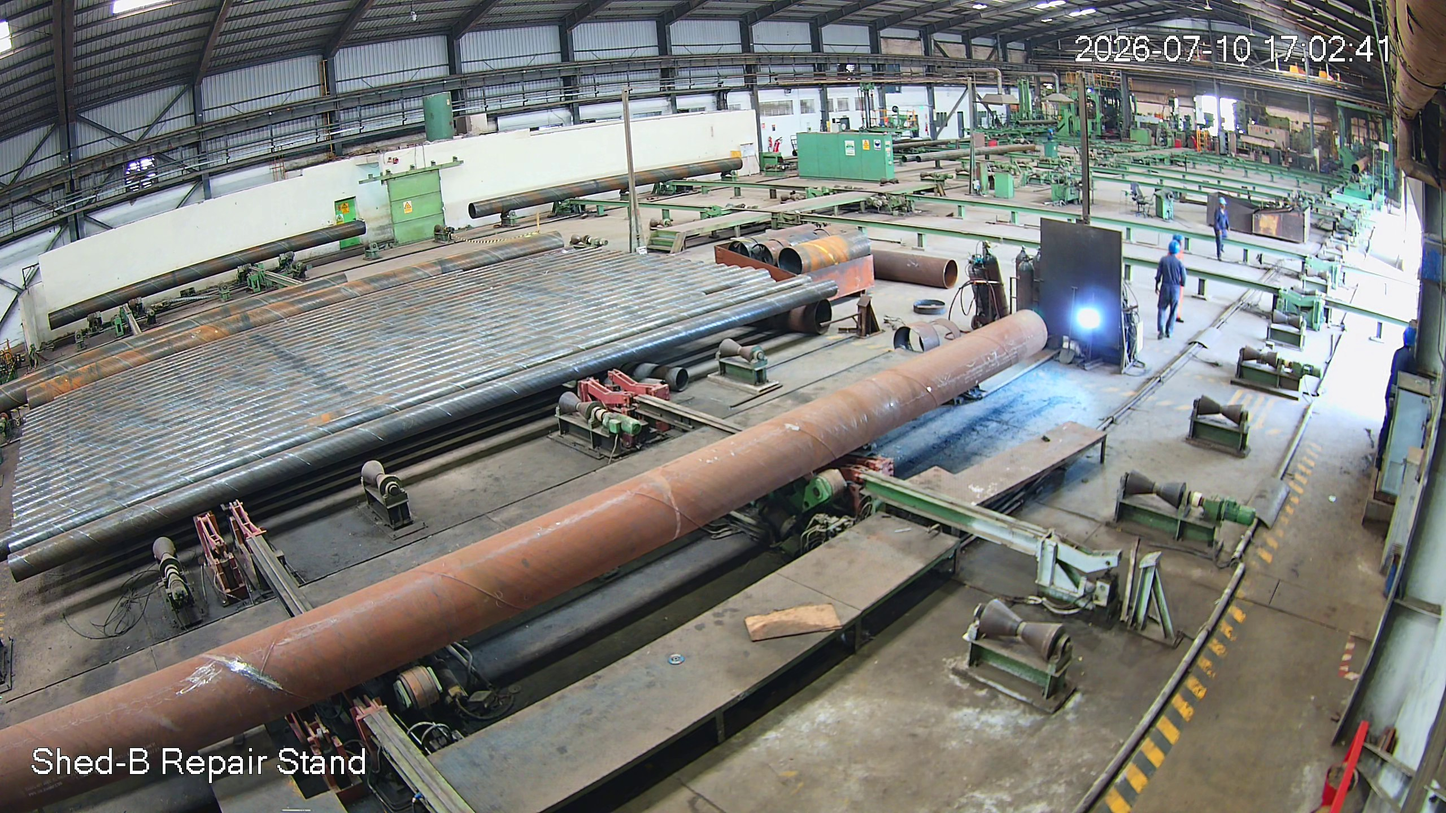Helmet: (1166, 239, 1183, 259)
Person: (1157, 244, 1185, 336)
